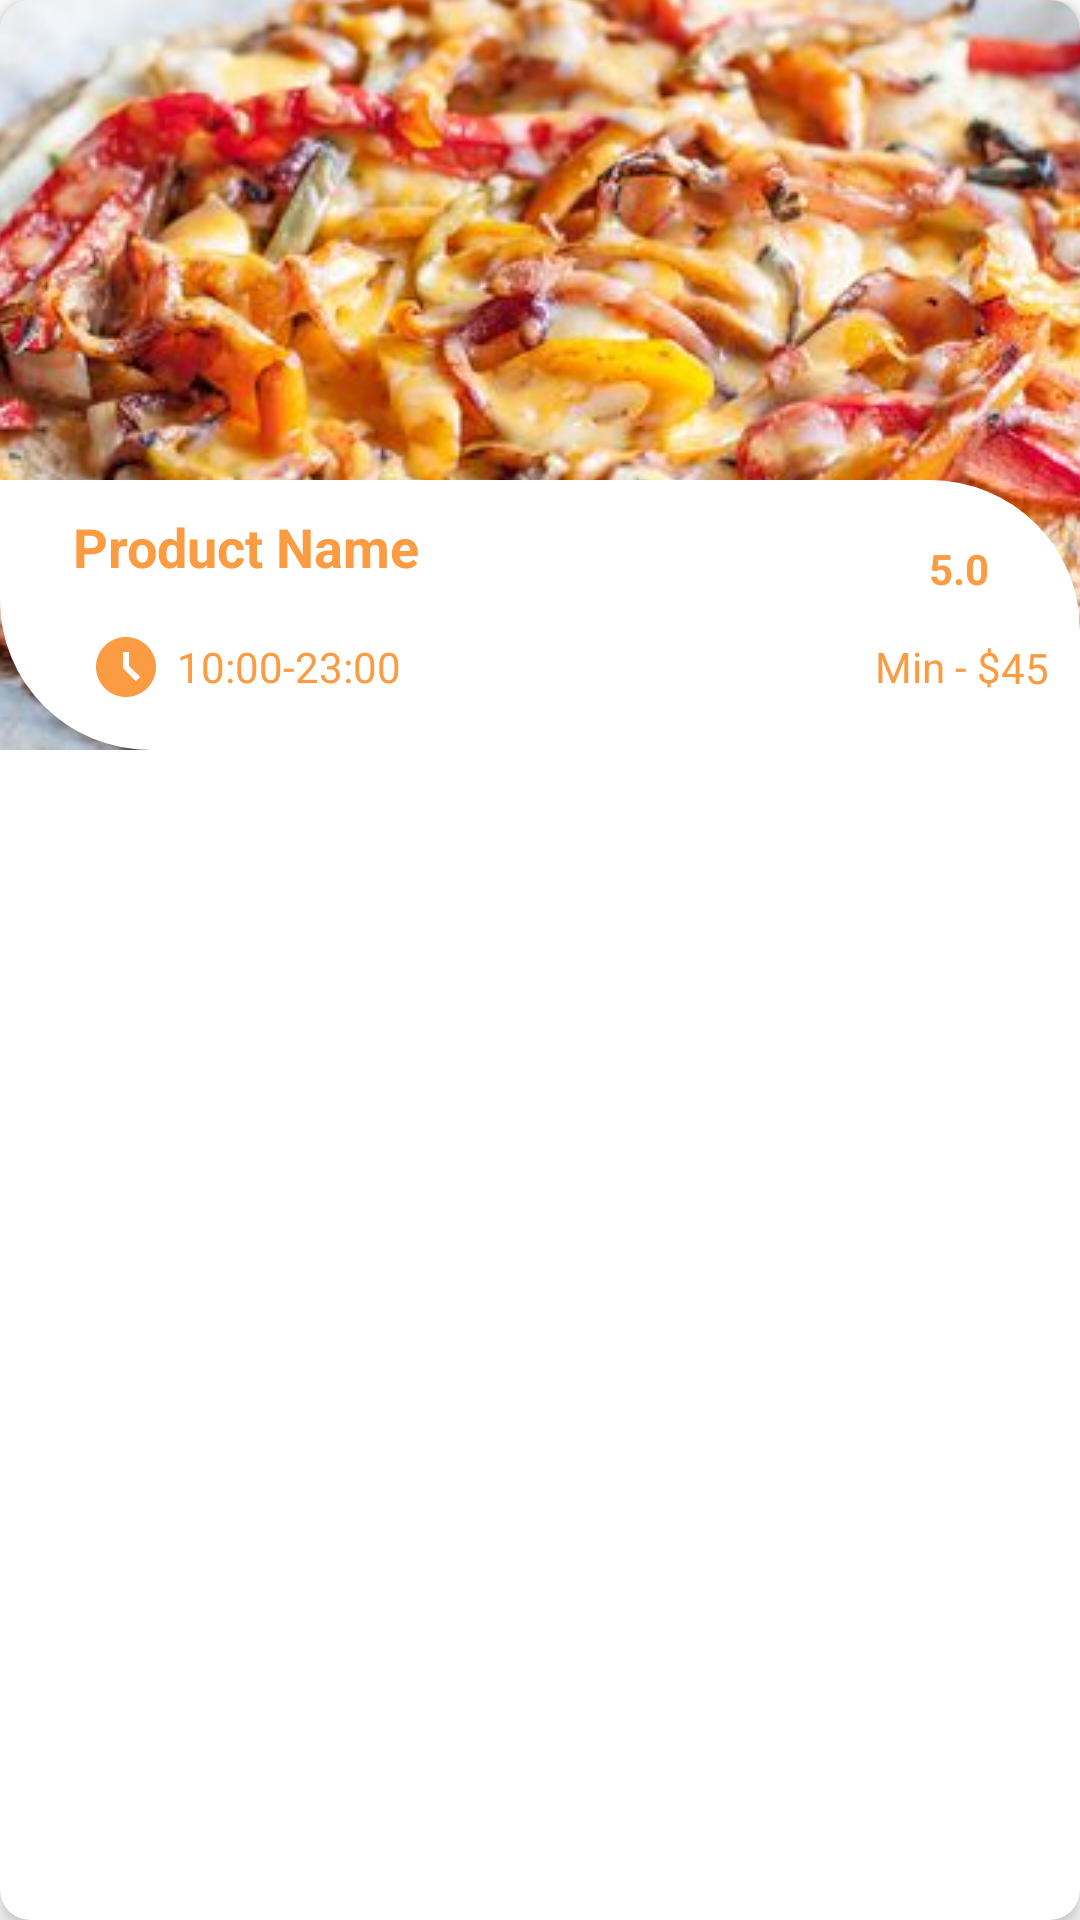

Named icons in this screenshot (1080 x 1920) and their centers, (x,y):
access time: (126,667)
